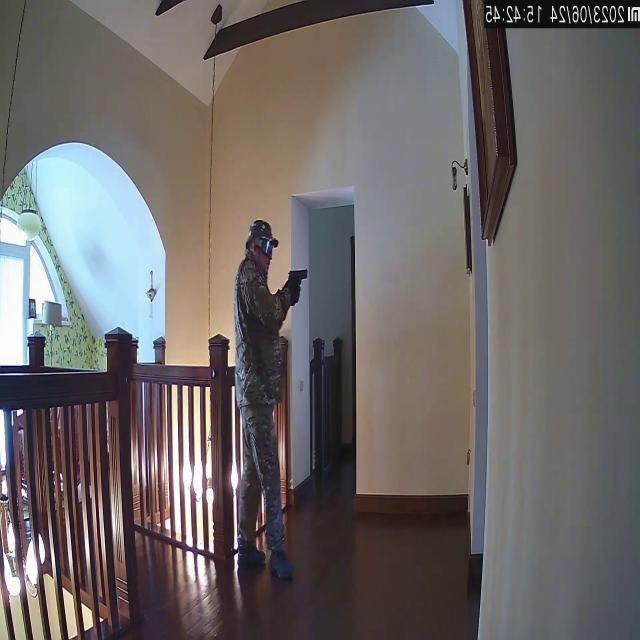pistol: (284, 264, 308, 298)
